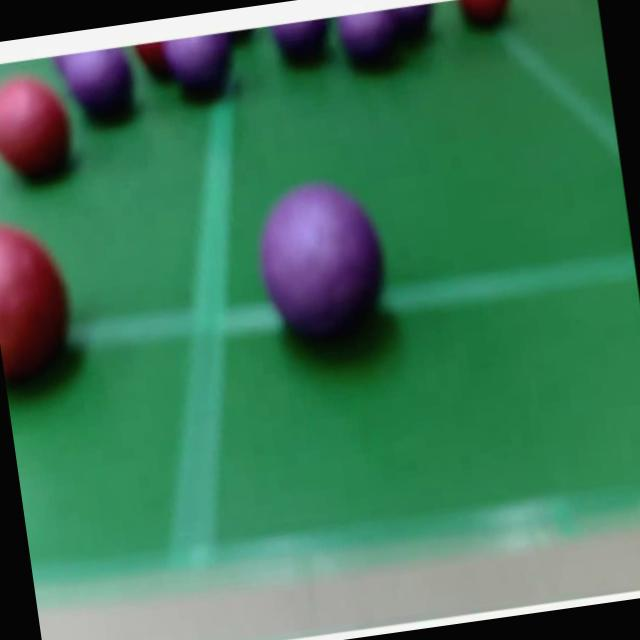purple_ball: (247, 169, 401, 362), (62, 46, 144, 130), (162, 33, 240, 110), (336, 8, 414, 76), (272, 17, 338, 70)
red_ball: (0, 213, 82, 395), (0, 69, 79, 191), (456, 0, 522, 32), (136, 42, 168, 86)
